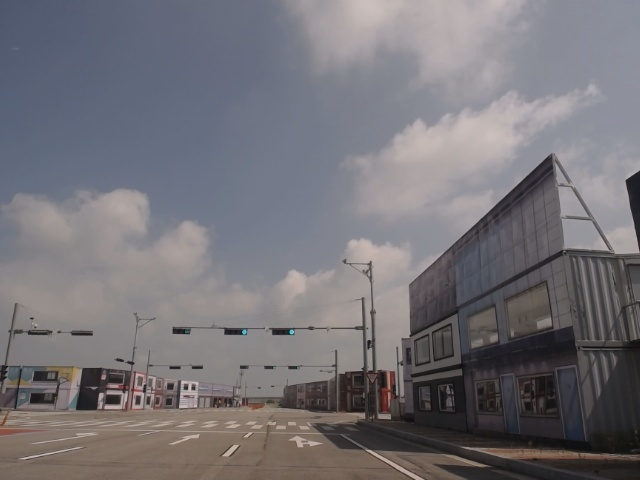straight_green_4: (273, 327, 297, 336), (224, 327, 247, 335)
